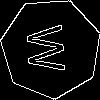W: (26, 23, 74, 74)
